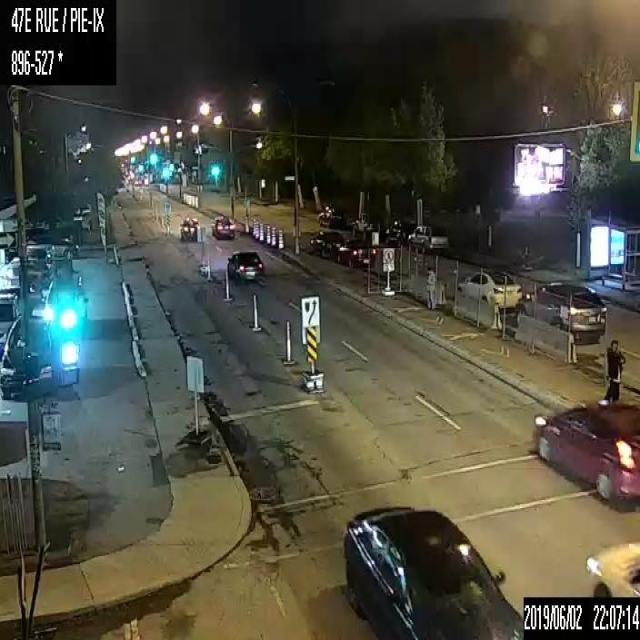construction: (284, 320, 292, 363), (252, 295, 257, 328), (205, 256, 210, 279), (265, 224, 271, 243), (278, 228, 284, 246), (225, 276, 229, 300), (259, 222, 264, 241), (271, 225, 276, 244), (253, 218, 258, 237)
pedestrian: (603, 339, 625, 400), (426, 267, 436, 308)
vehicle: (343, 502, 522, 638), (533, 400, 639, 503), (515, 282, 606, 347), (1, 314, 63, 394), (458, 264, 523, 312), (586, 540, 639, 595), (26, 232, 79, 260), (406, 222, 451, 254), (332, 234, 377, 265), (226, 248, 264, 284), (23, 244, 56, 278), (0, 290, 19, 347), (311, 228, 344, 258), (352, 211, 382, 239), (385, 218, 416, 245), (210, 213, 235, 240), (317, 205, 342, 227), (178, 213, 198, 240)
